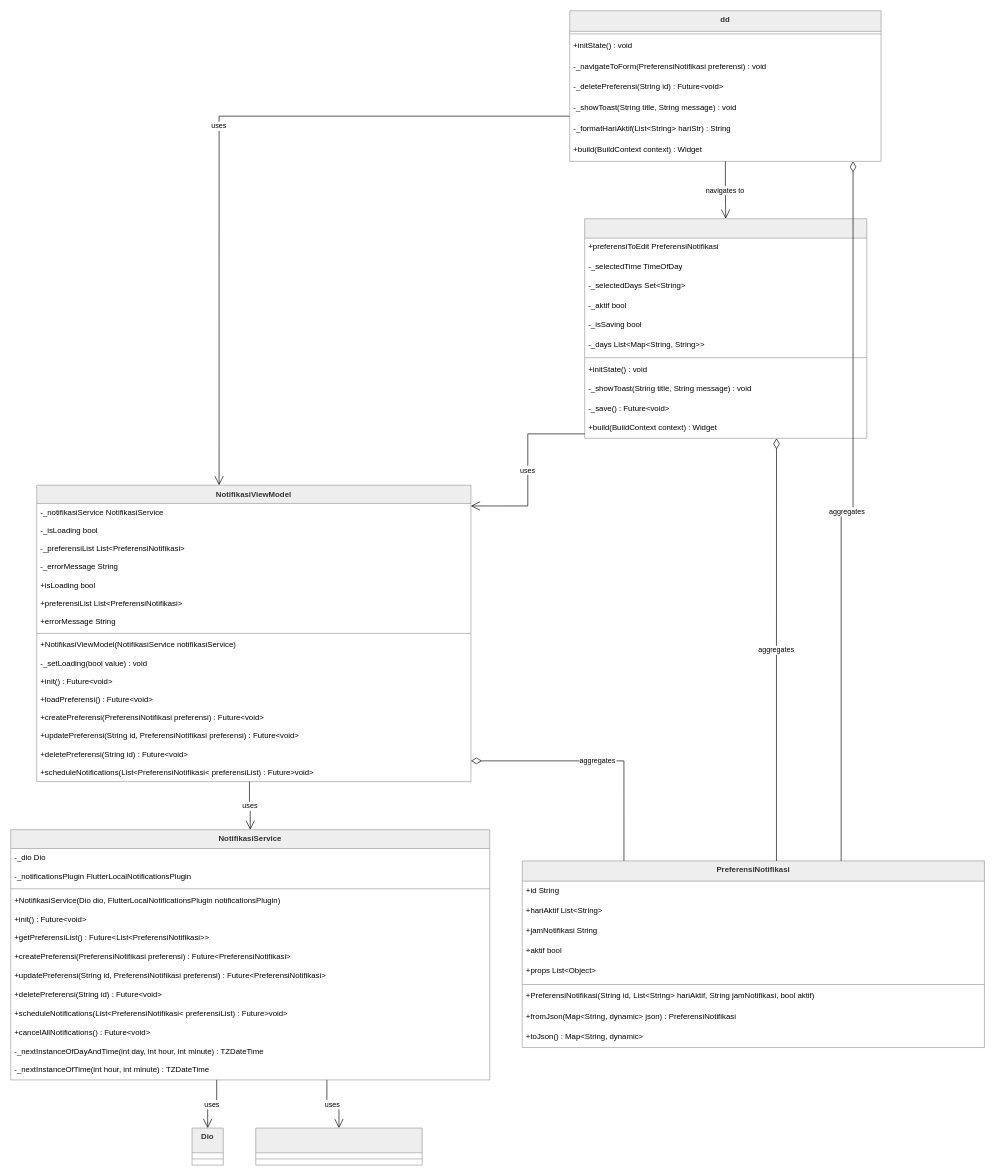
Image size: 995x1176. Some labels were removed from this diagram. Here are the shapes that lost their labels. From the top down, the box of each, then its label:
(584, 218, 867, 438): NotifikasiFormPage
(255, 1127, 422, 1165): FlutterLocalNotificationsPlugin
